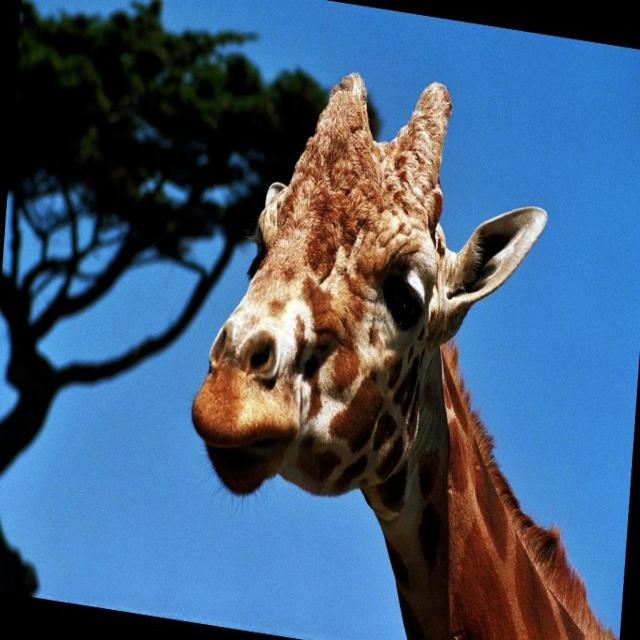Giraffe: (191, 66, 640, 640)
